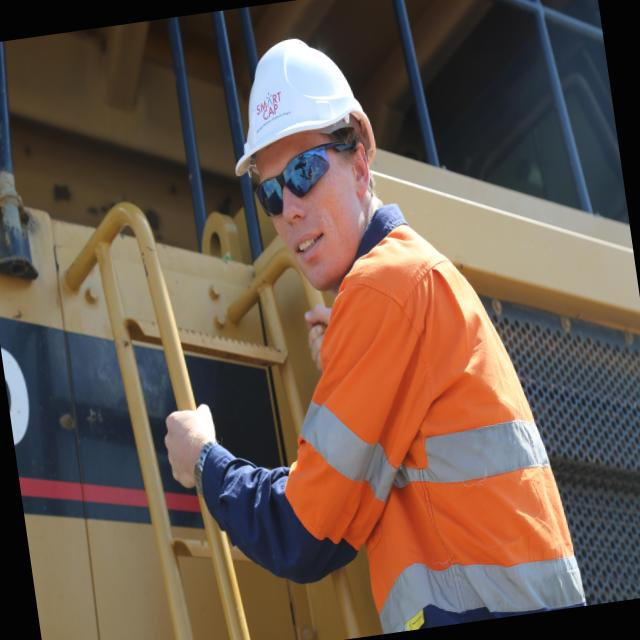goggles: (230, 135, 364, 227)
helmet: (207, 24, 377, 172)
vest: (261, 243, 583, 628)
